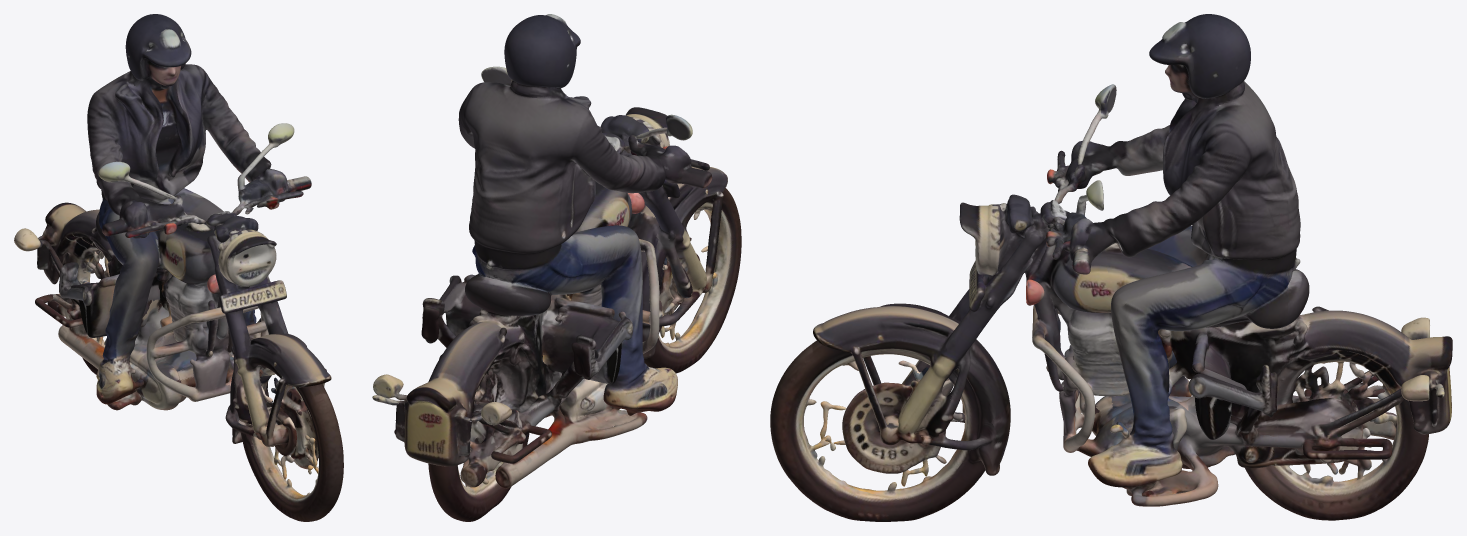
File: Motor1.fbx
3 views of the same model, side by side, from view 1: azimuth 30°, elevation 25°; view 2: azimuth 150°, elevation 25°; view 3: azimuth 270°, elevation 25° (orthographic). The views are drawn at different scales.
Visible parts, largest first — view 1: tripo_node_ac08f4d9-4ada-45e3-8df3-ec45de15a184.001; view 2: tripo_node_ac08f4d9-4ada-45e3-8df3-ec45de15a184.001; view 3: tripo_node_ac08f4d9-4ada-45e3-8df3-ec45de15a184.001.
Part boxes in pixels (left/top/right/bottom): tripo_node_ac08f4d9-4ada-45e3-8df3-ec45de15a184.001: left=14, top=14, right=343, bottom=521; tripo_node_ac08f4d9-4ada-45e3-8df3-ec45de15a184.001: left=372, top=14, right=741, bottom=521; tripo_node_ac08f4d9-4ada-45e3-8df3-ec45de15a184.001: left=770, top=14, right=1452, bottom=521.
Size of the model in its own units: 42.57 by 80.51 by 100.
1 material, 1 textured.
